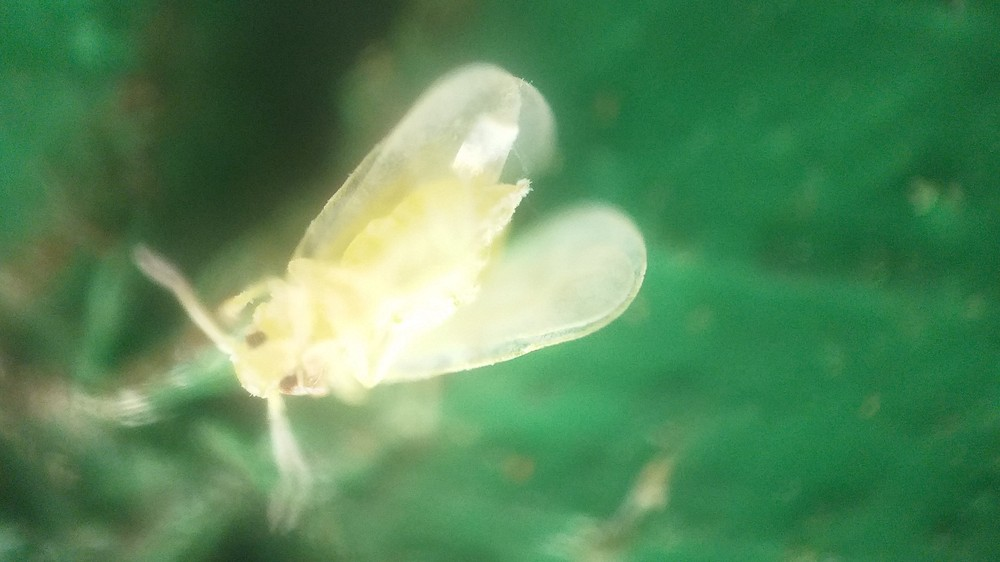Mosca Blanca: (117, 57, 656, 505)
